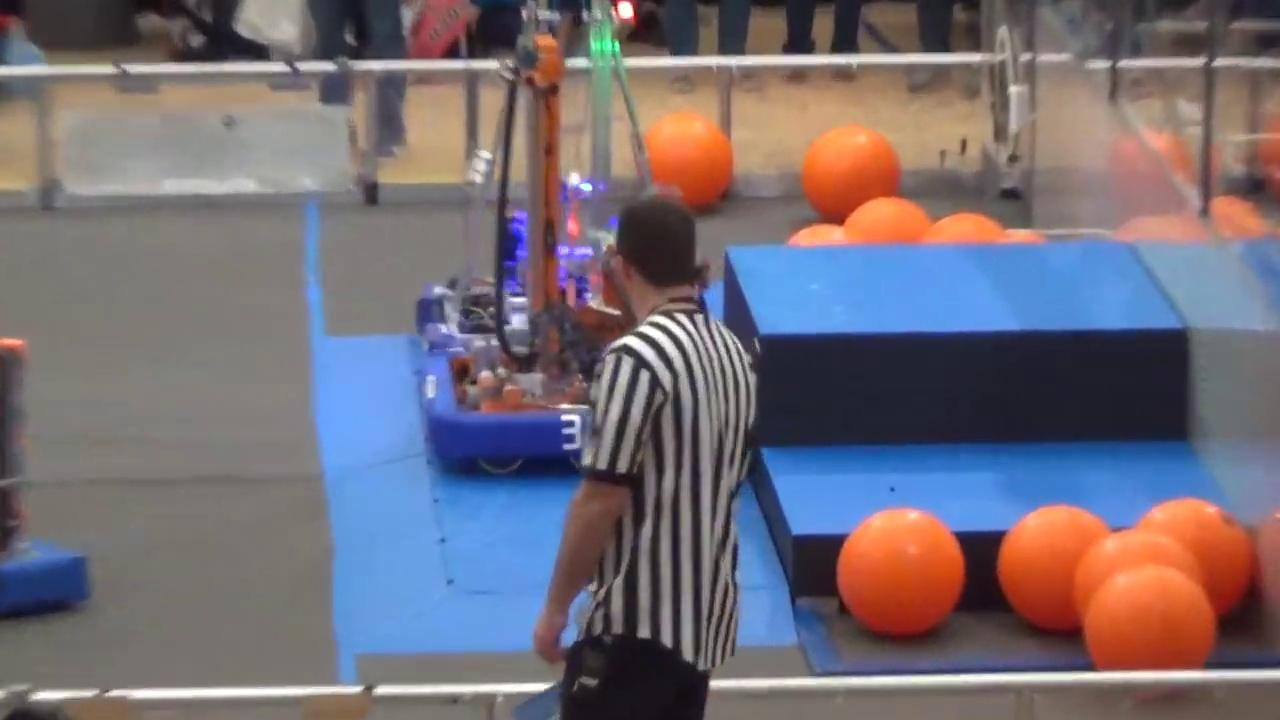robot: (415, 30, 591, 478), (0, 309, 100, 616)
